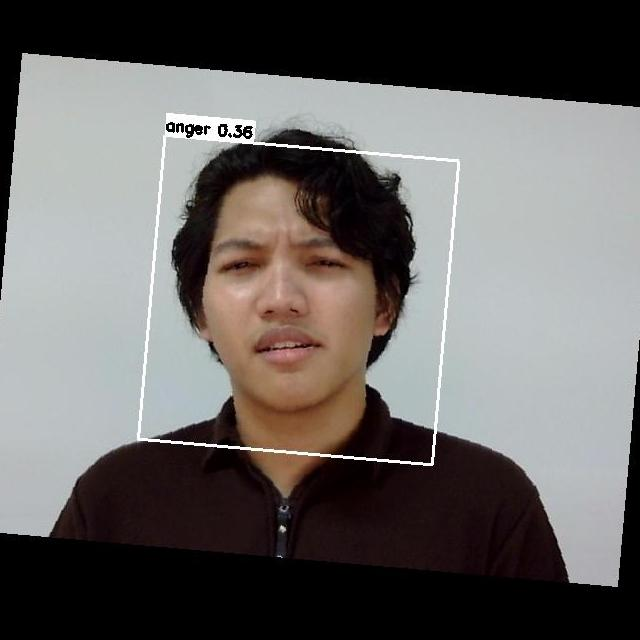Sad: (182, 206, 388, 396)
